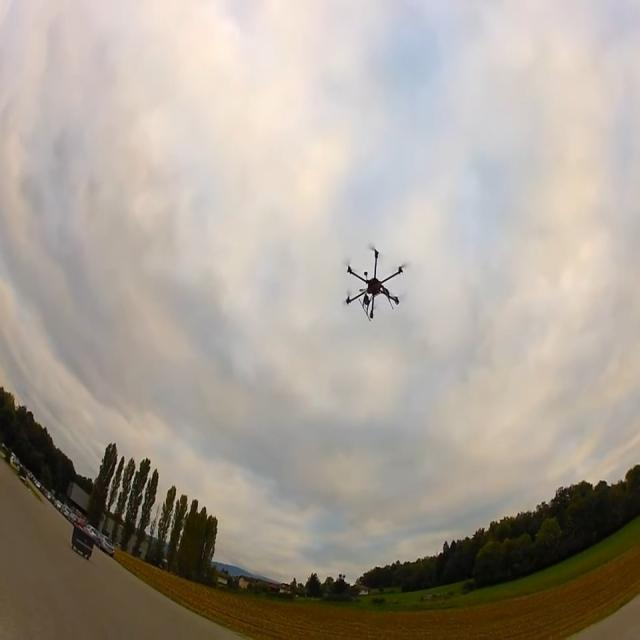drone: (344, 246, 404, 320)
